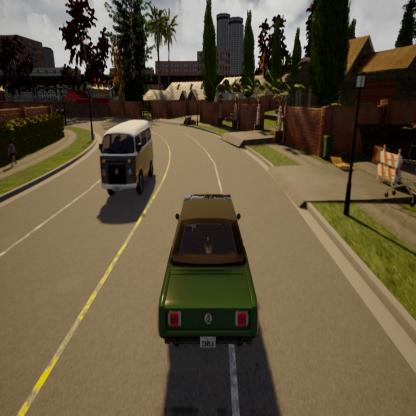Cars: (156, 188, 268, 356), (94, 117, 160, 208)
Pedestrian: (5, 138, 20, 172)
